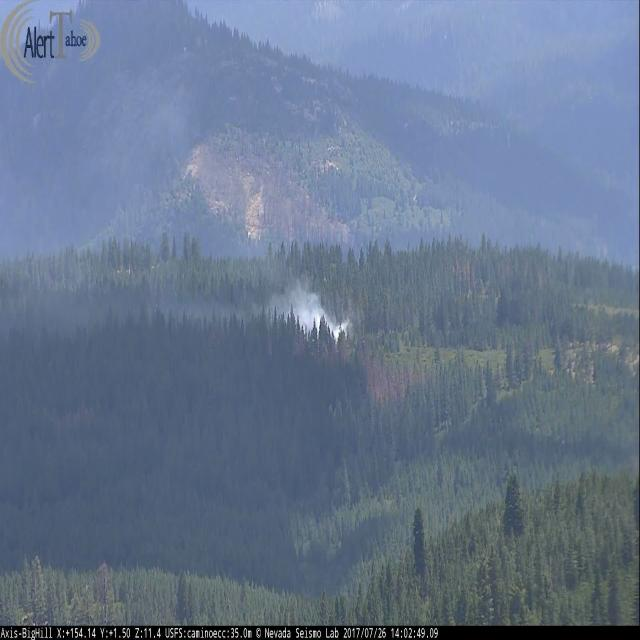smoke: (264, 278, 352, 344)
